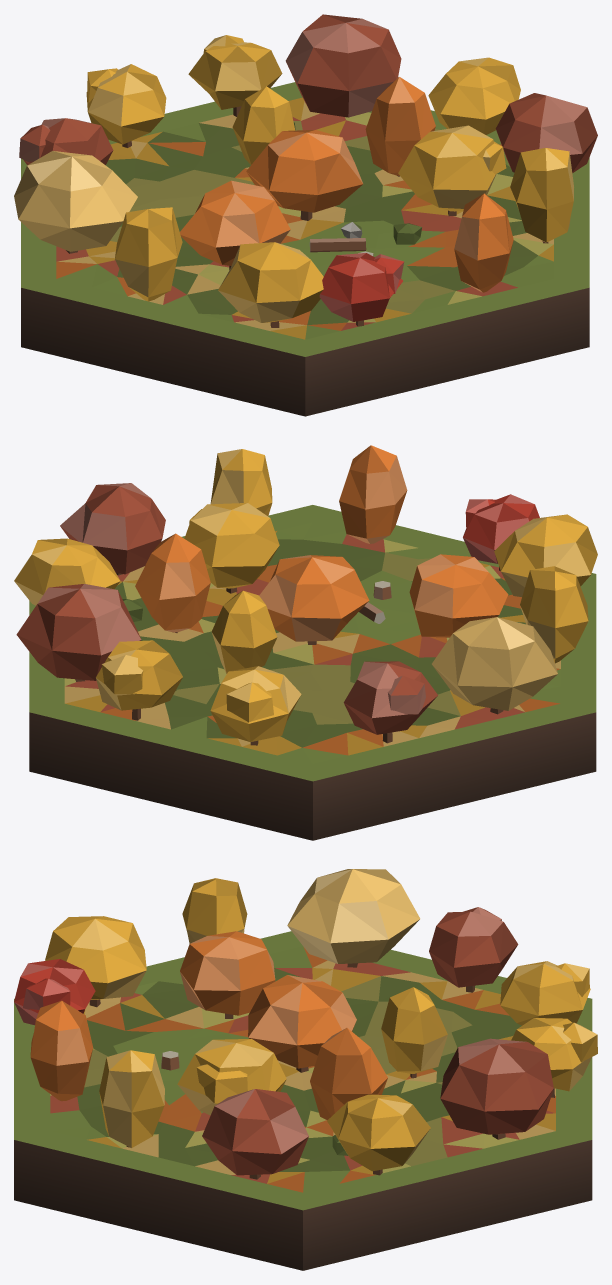
The model's file is SM_Tile_Forest_B.fbx.
3 renders of one model, top to bottom at view 1: azimuth 30°, elevation 25°; view 2: azimuth 150°, elevation 25°; view 3: azimuth 270°, elevation 25°, orthographic.
Visible parts, largest first — view 1: SM_Tile_Forest_B; view 2: SM_Tile_Forest_B; view 3: SM_Tile_Forest_B.
Boxes of the visible parts, x1,y1,x2,y2 form: SM_Tile_Forest_B: (14,14,597,416); SM_Tile_Forest_B: (14,445,597,840); SM_Tile_Forest_B: (14,869,597,1270).
Size of the model in its own units: 20 by 5.28 by 17.5.
